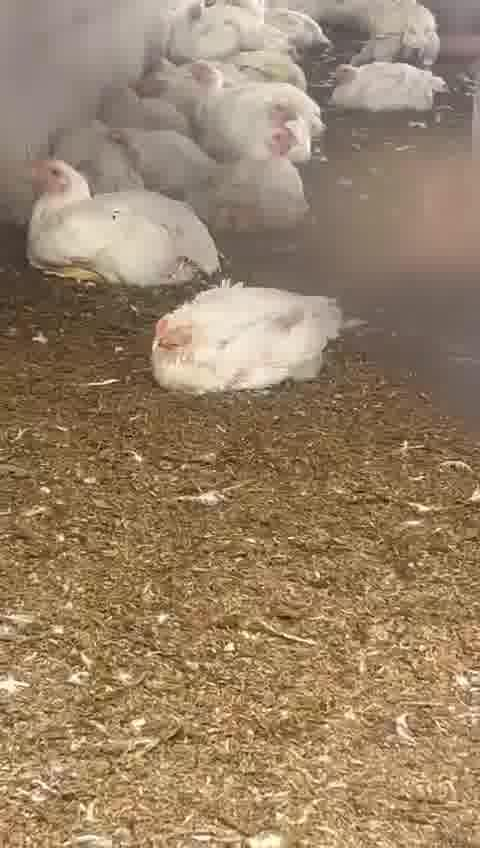AbNormal: (148, 282, 358, 401), (100, 84, 189, 168), (53, 116, 160, 181), (135, 49, 199, 104)
Normal: (22, 156, 219, 279), (190, 130, 311, 238), (195, 62, 329, 152), (324, 48, 451, 113)
